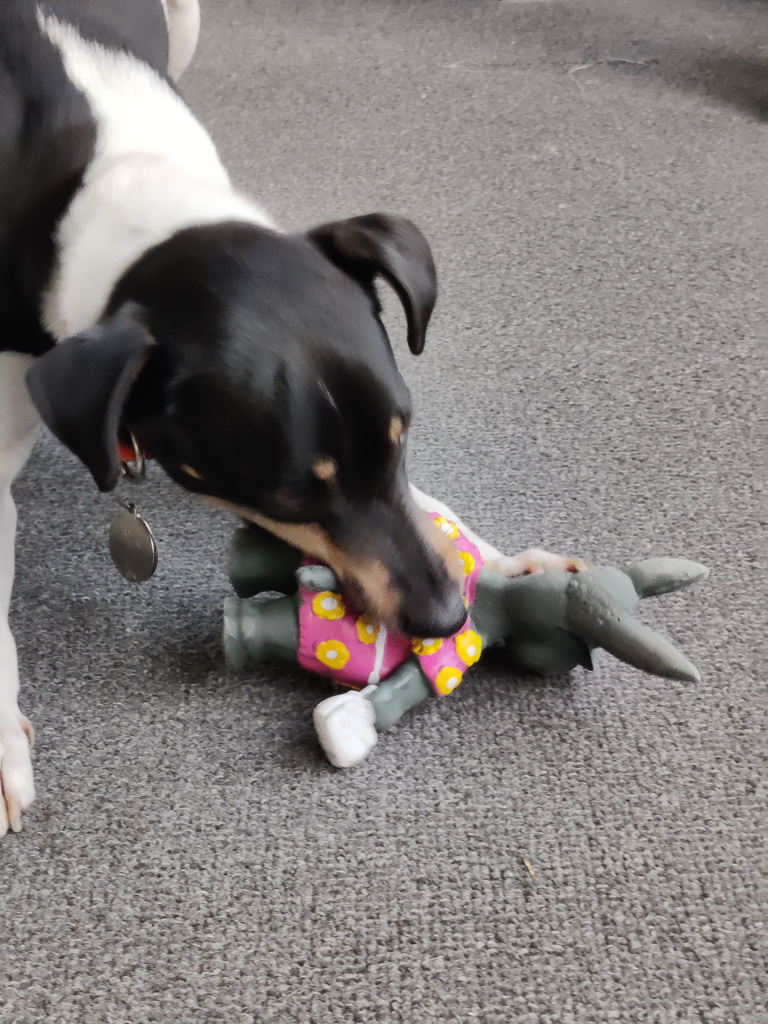Dog: (0, 0, 607, 858)
Humanoid: (189, 459, 749, 789)
